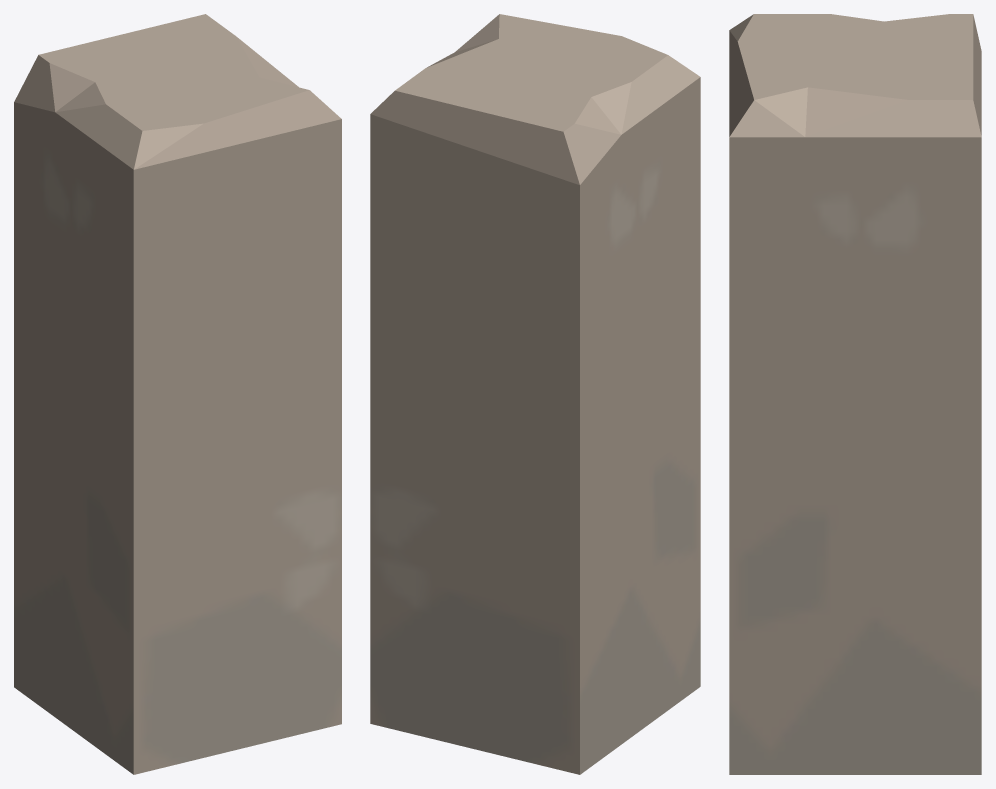
File: SM_Bld_Village_Wall_Pillar_01.glb
The picture shows the model from 3 angles, left to right: view 1: azimuth 30°, elevation 25°; view 2: azimuth 150°, elevation 25°; view 3: azimuth 270°, elevation 25°; orthographic projection. The views are drawn at different scales.
Visible parts, largest first — view 1: SM_Bld_Village_Wall_Pillar_01; view 2: SM_Bld_Village_Wall_Pillar_01; view 3: SM_Bld_Village_Wall_Pillar_01.
Part boxes in pixels (x1,y1,x2,y2): SM_Bld_Village_Wall_Pillar_01: [14, 14, 341, 774]; SM_Bld_Village_Wall_Pillar_01: [370, 14, 700, 774]; SM_Bld_Village_Wall_Pillar_01: [729, 14, 981, 774].
Bounding box in the file's own units: 0.6035 × 1.75 × 0.6013.
Materials: 1 (1 with a texture image).
